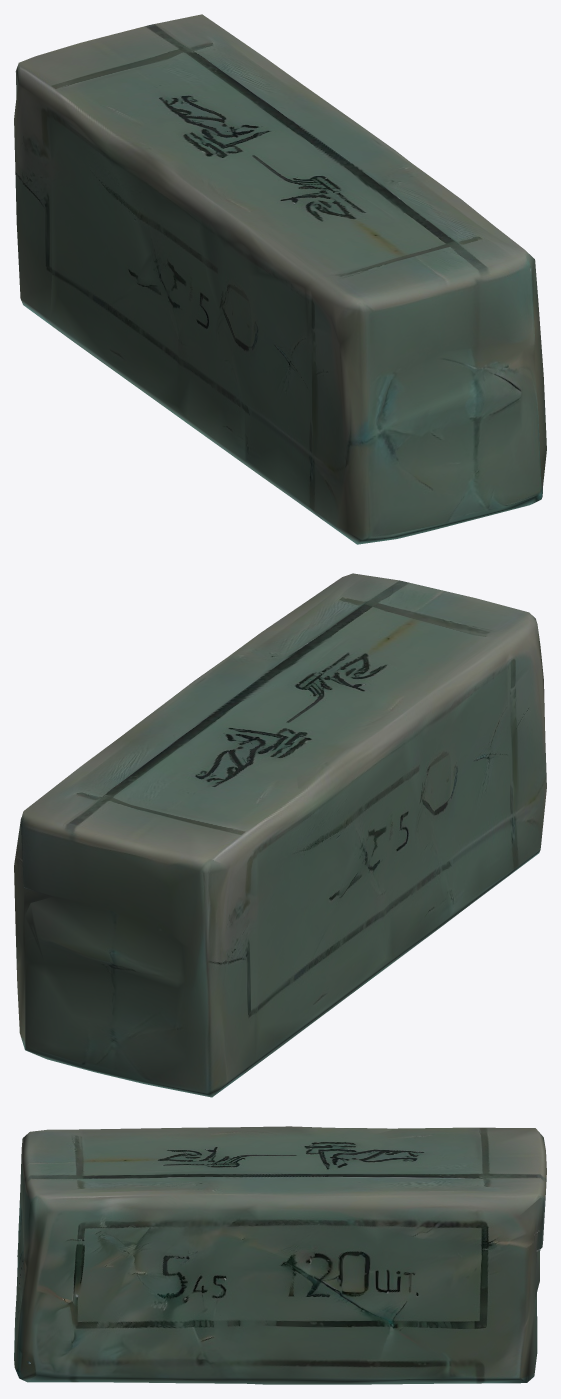
3 views of the same model, one above another, from view 1: azimuth 30°, elevation 25°; view 2: azimuth 150°, elevation 25°; view 3: azimuth 270°, elevation 25° (orthographic). The views are drawn at different scales.
Parts seen in each view (by area): view 1: tripo_node_97bf3456; view 2: tripo_node_97bf3456; view 3: tripo_node_97bf3456.
Part boxes in pixels (x1,y1,x2,y2): tripo_node_97bf3456: (14, 14, 546, 544); tripo_node_97bf3456: (14, 573, 546, 1097); tripo_node_97bf3456: (14, 1126, 546, 1384).
Size of the model in its own units: 0.3475 by 0.3945 by 1.
